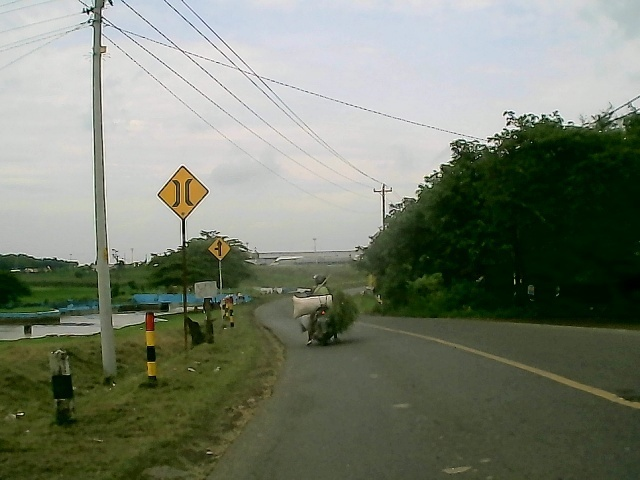Jembatan: (155, 163, 210, 222)
Simpang kiri dengan prioritas: (207, 237, 231, 262)
